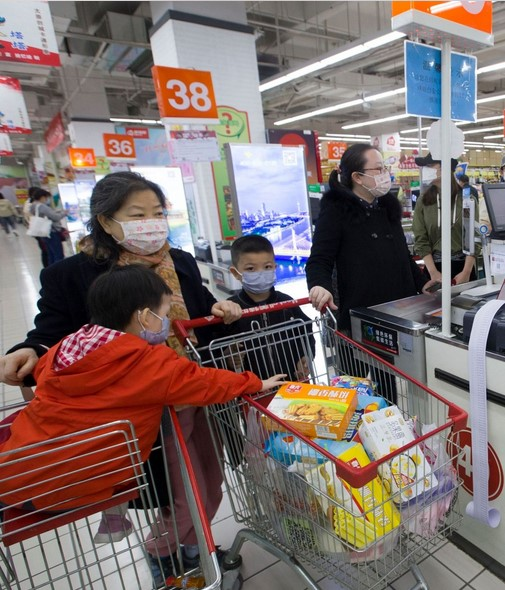face_with_mask: (96, 172, 173, 258), (110, 271, 182, 344), (340, 141, 397, 205), (227, 233, 281, 297), (413, 150, 458, 186)
